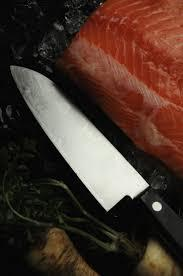Knife: (9, 63, 182, 275)
